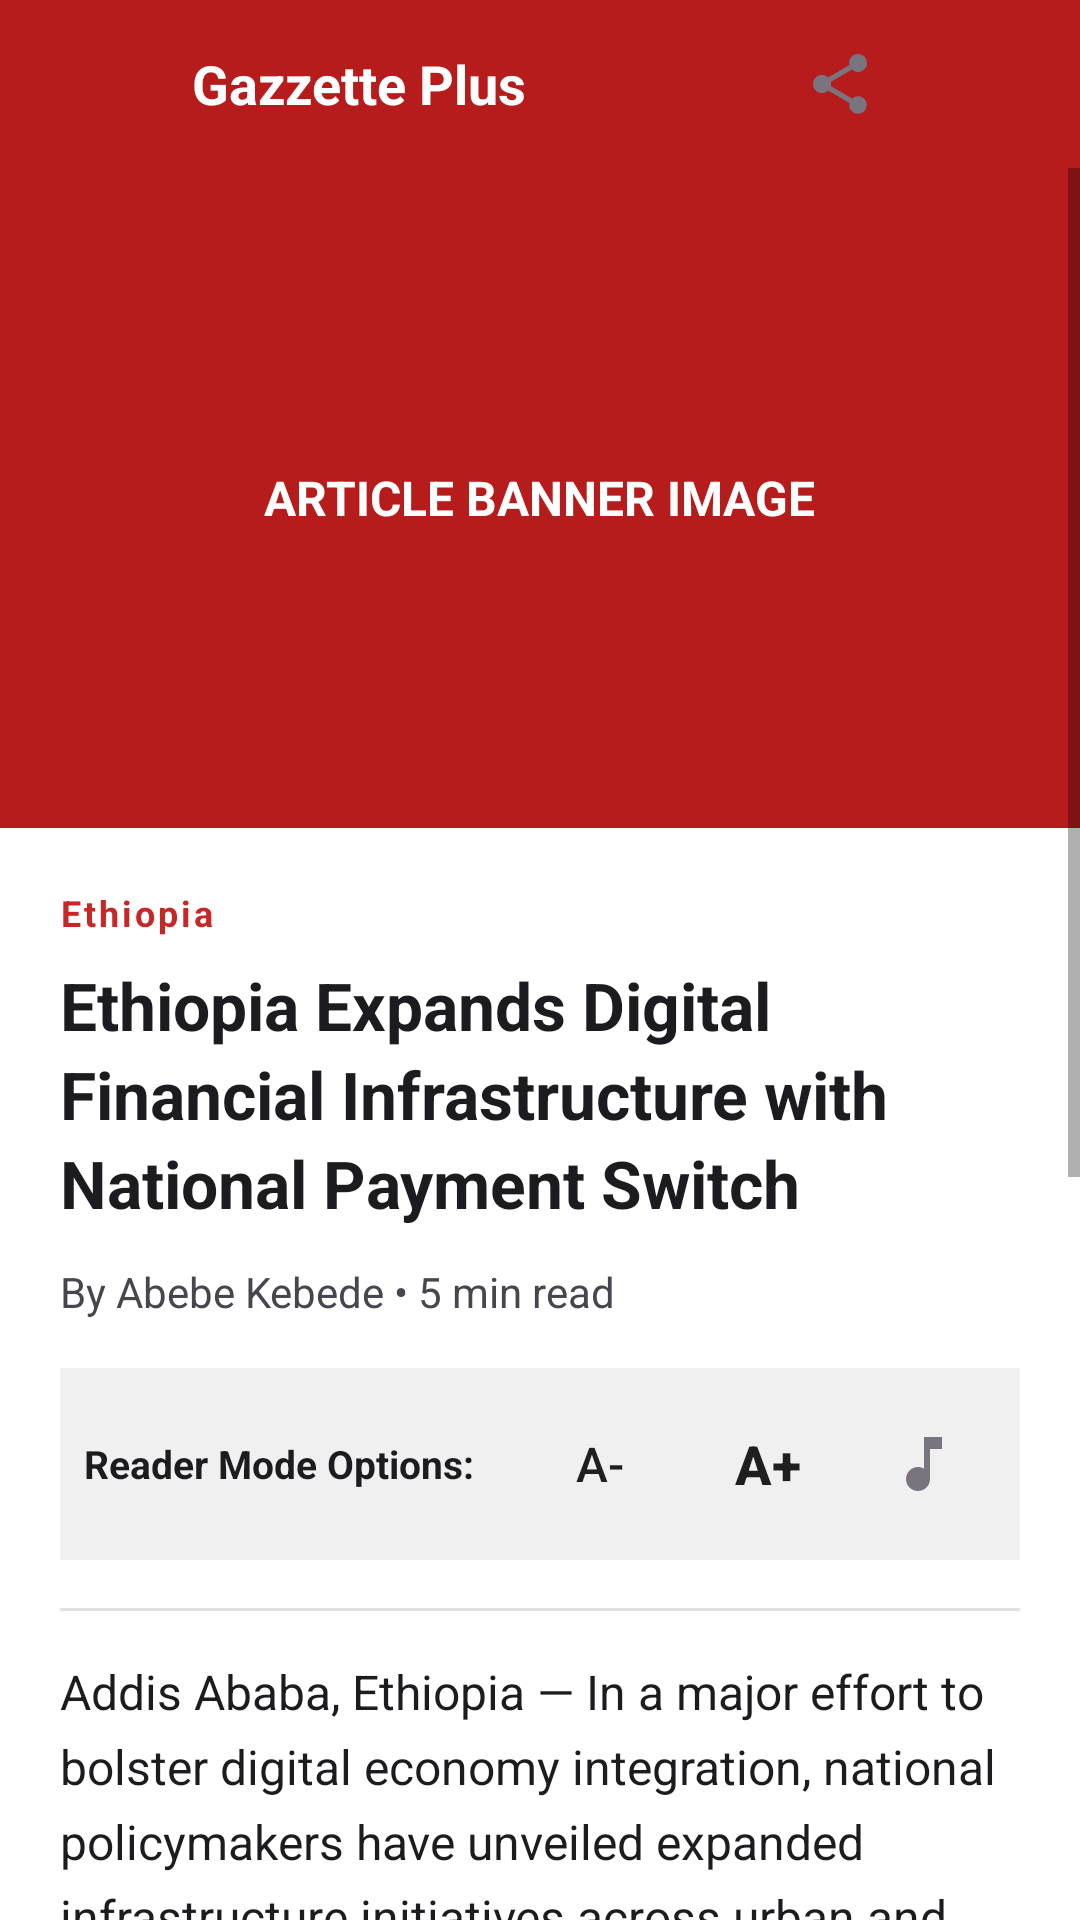

Icon bounding boxes for this 1080×1920 phone screenshot, format (x1, y1, x2, y2):
Listen (Audio): (906, 1437, 942, 1491)
Share: (813, 54, 867, 114)
